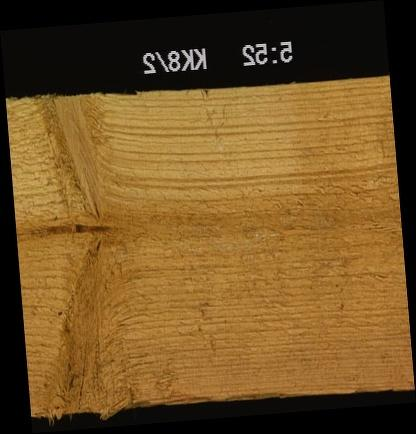wave: (130, 391, 287, 405)
